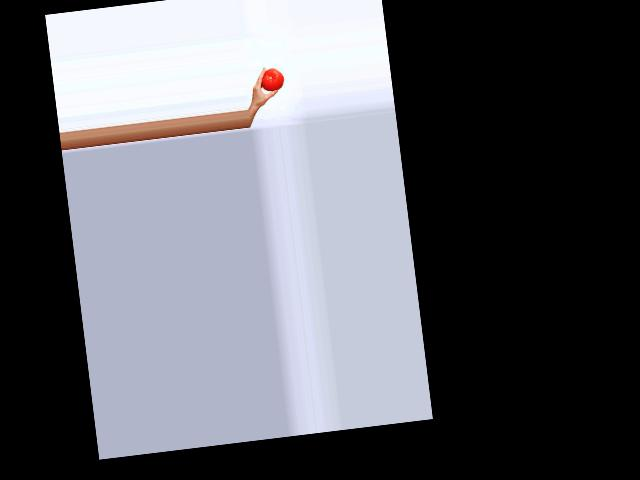tomato: (260, 66, 284, 91)
